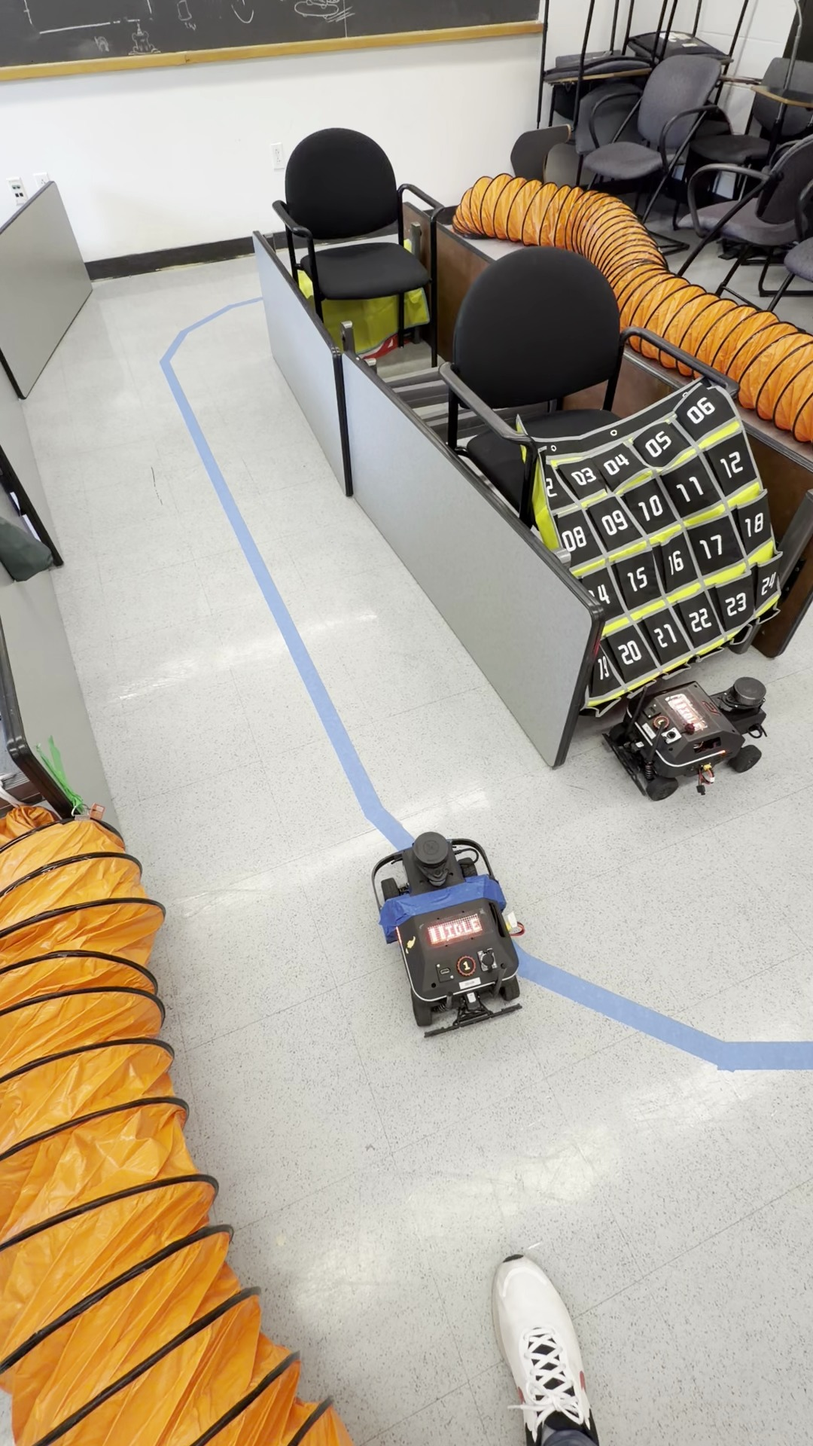racecar: (375, 830, 523, 1036), (601, 672, 765, 801)
